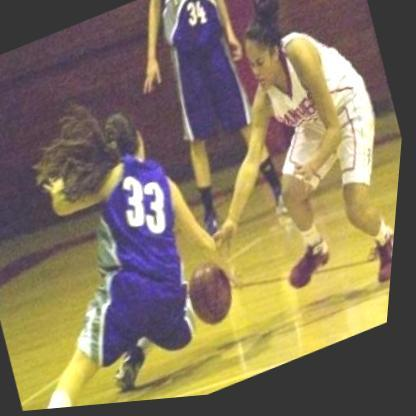basketball: (183, 255, 253, 342)
